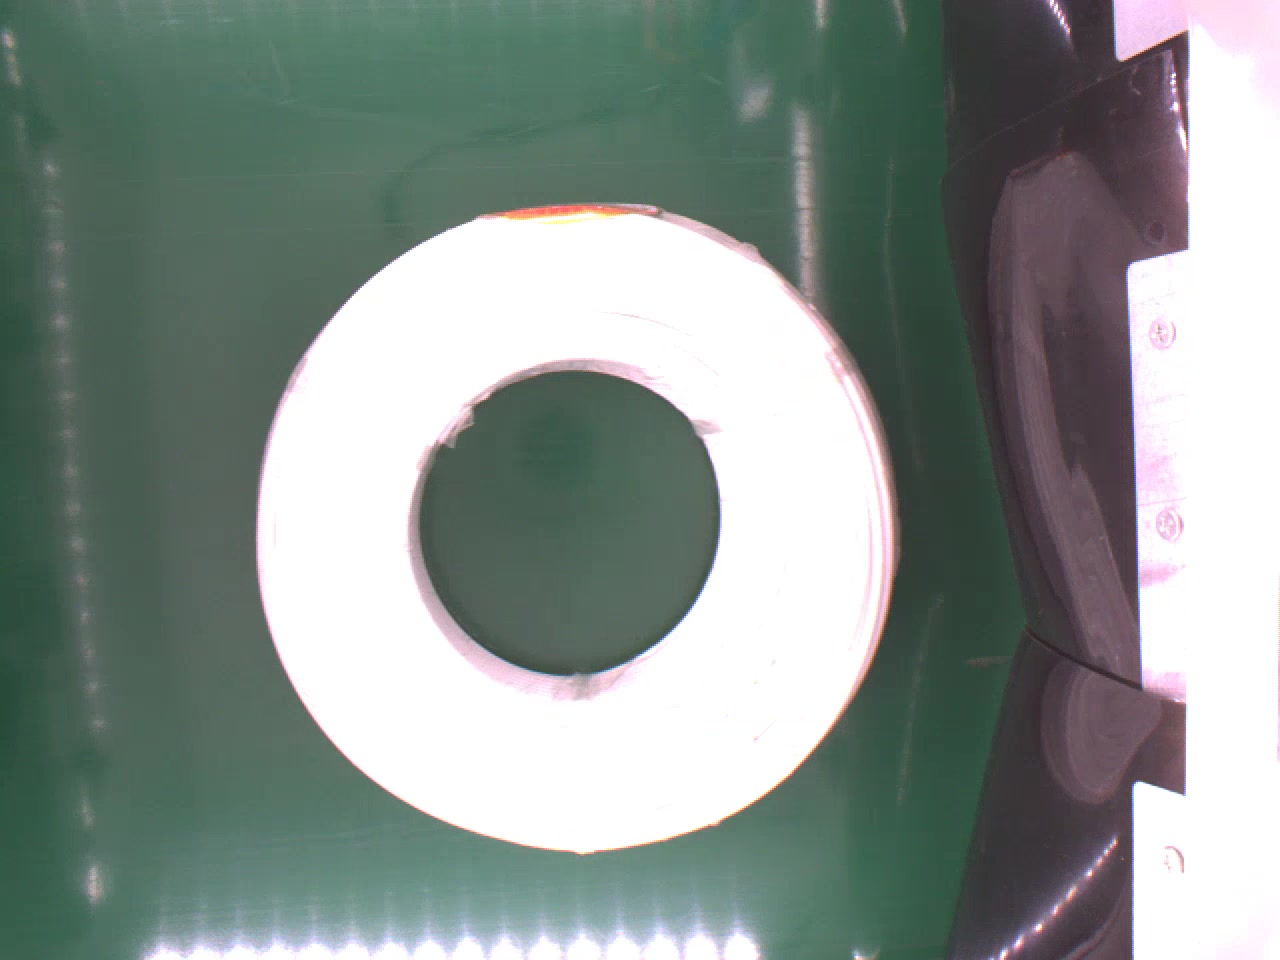white: (248, 192, 917, 861)
